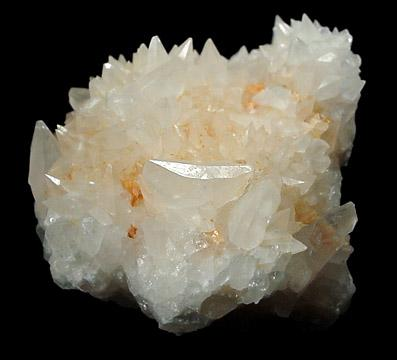calcite: (29, 16, 364, 334)
